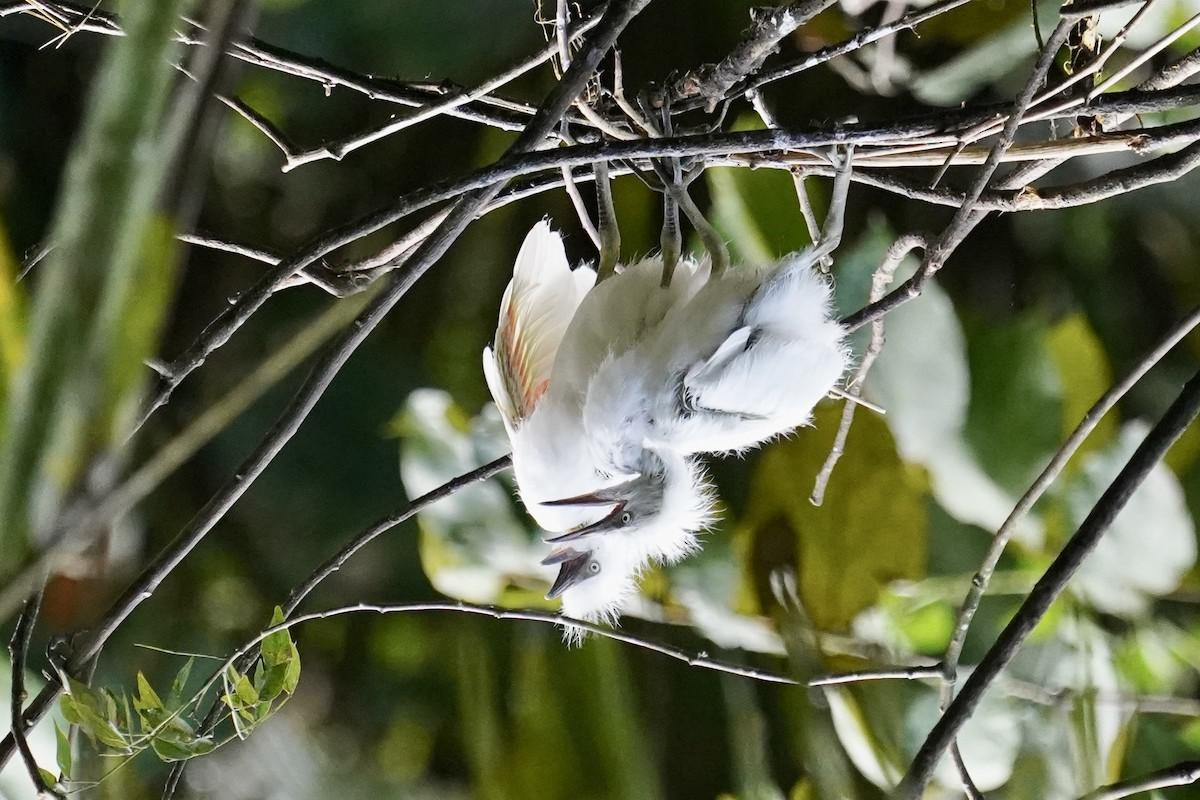egret: (551, 191, 866, 557), (537, 537, 622, 651)
